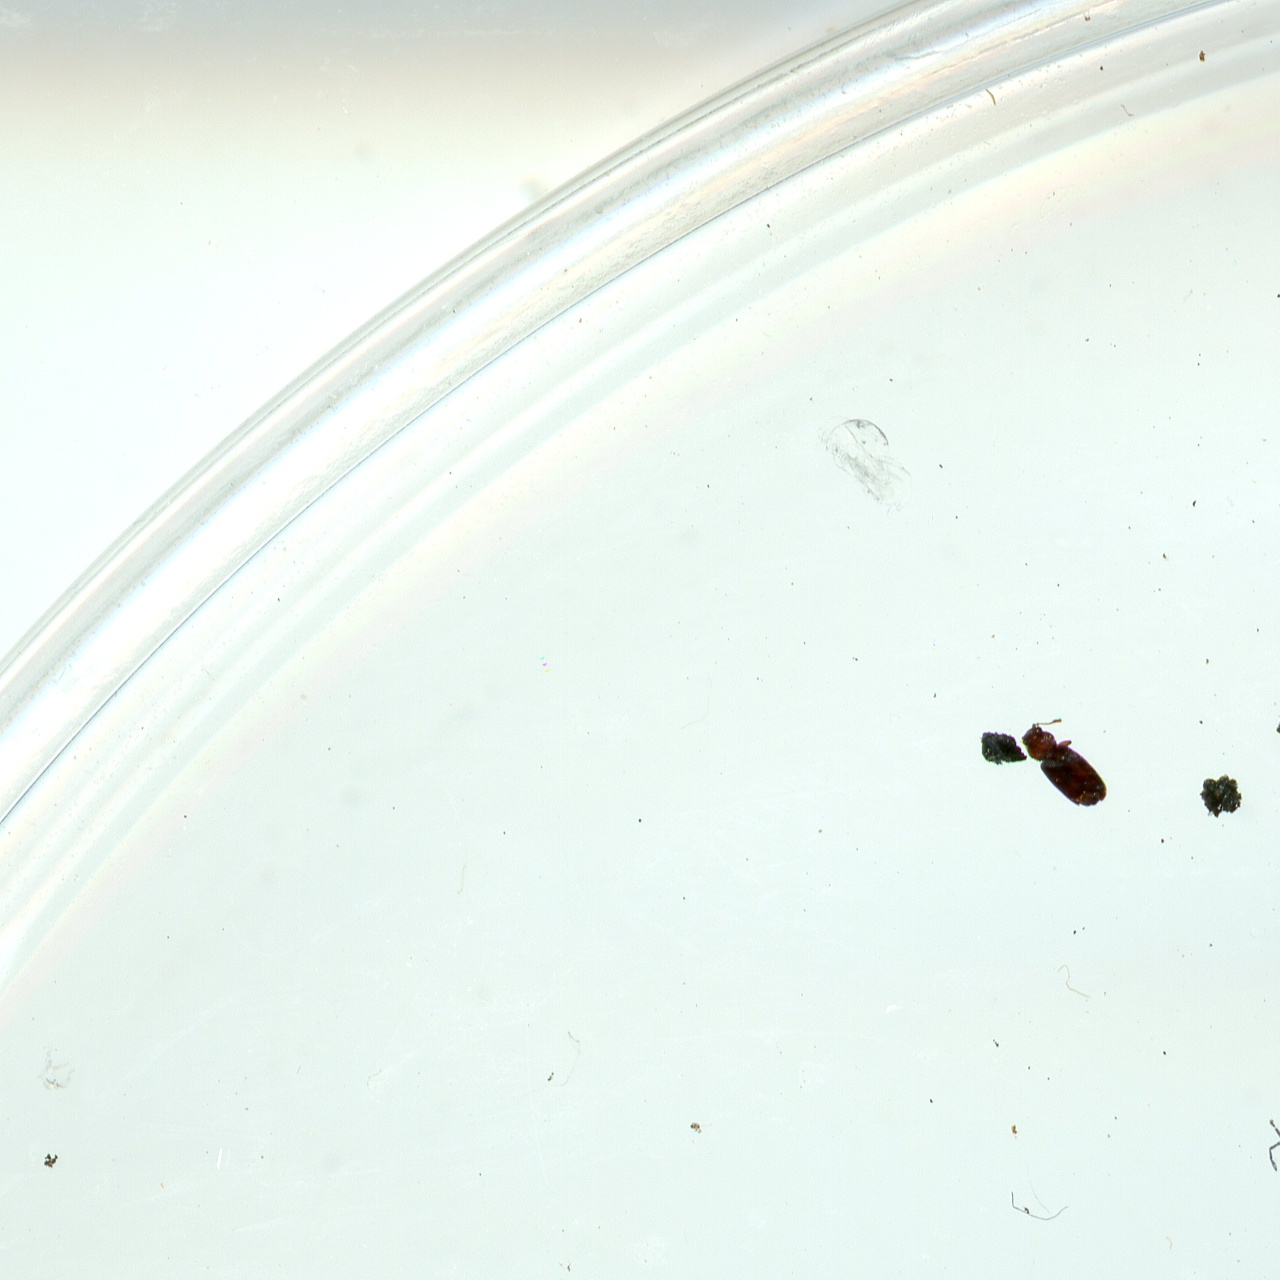arthropod: (1008, 700, 1119, 829), (1261, 1112, 1280, 1201)
